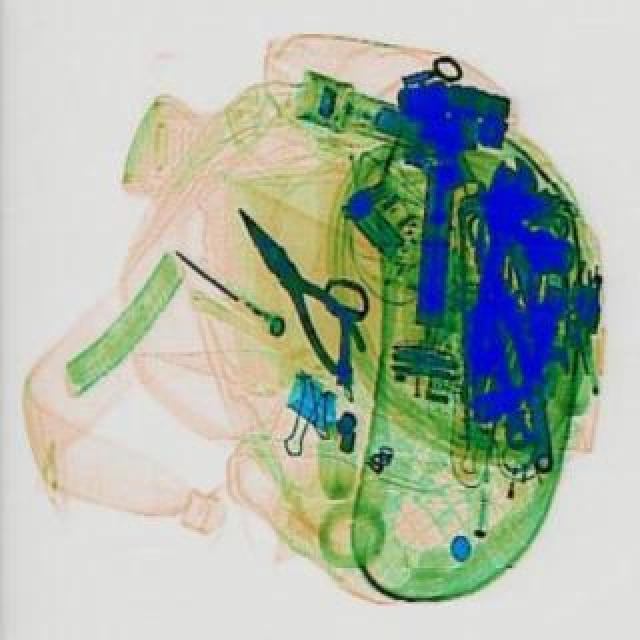scissors: (478, 152, 574, 472)
wrench: (216, 190, 376, 378)
